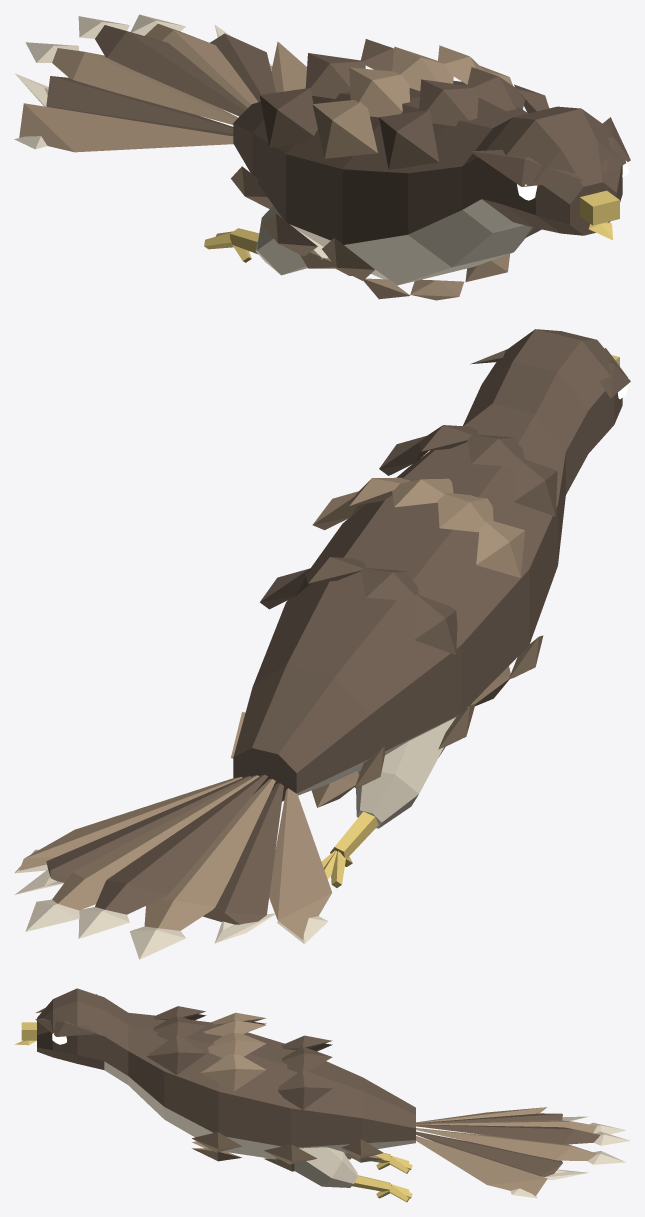
Rendered from beast-flier.glb.
3 renders of one model, top to bottom at view 1: azimuth 30°, elevation 25°; view 2: azimuth 150°, elevation 25°; view 3: azimuth 270°, elevation 25°, orthographic. The views are drawn at different scales.
Parts seen in each view (by area): view 1: hawk_body; view 2: hawk_body; view 3: hawk_body.
Boxes of the visible parts, x1,y1,x2,y2 form: hawk_body: [14, 14, 630, 300]; hawk_body: [14, 329, 630, 959]; hawk_body: [14, 988, 630, 1202].
Size of the model in its own units: 0.3249 by 0.3479 by 1.03.
